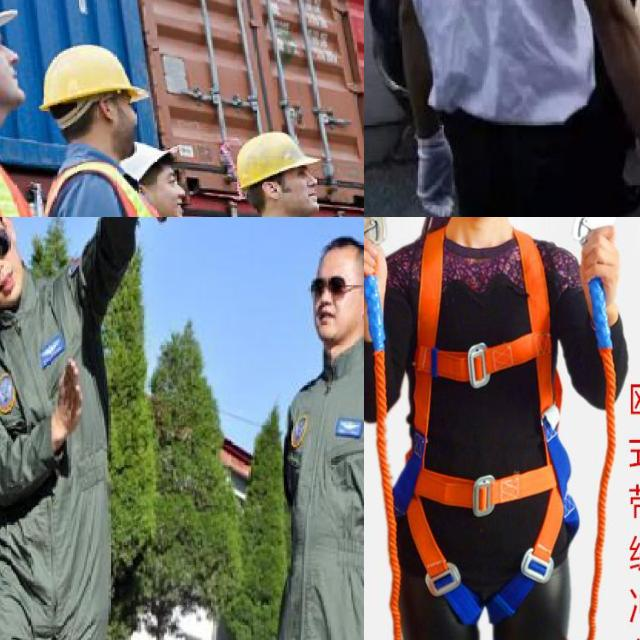Harness: (404, 217, 601, 554)
No_Ear-Protection: (96, 94, 117, 125), (260, 179, 284, 204)
face_nomask: (305, 259, 364, 345), (0, 217, 31, 302), (0, 47, 26, 105), (290, 175, 320, 213), (148, 187, 185, 217)
glasses: (304, 275, 351, 301), (0, 227, 13, 293)
hand_glove: (413, 137, 453, 217)
hand_noglove: (50, 358, 84, 445)
head_helmet: (41, 45, 147, 111), (236, 133, 317, 188)
head_nohelmet: (297, 225, 364, 268)
person: (0, 217, 162, 640), (388, 0, 640, 217), (265, 217, 364, 640)
